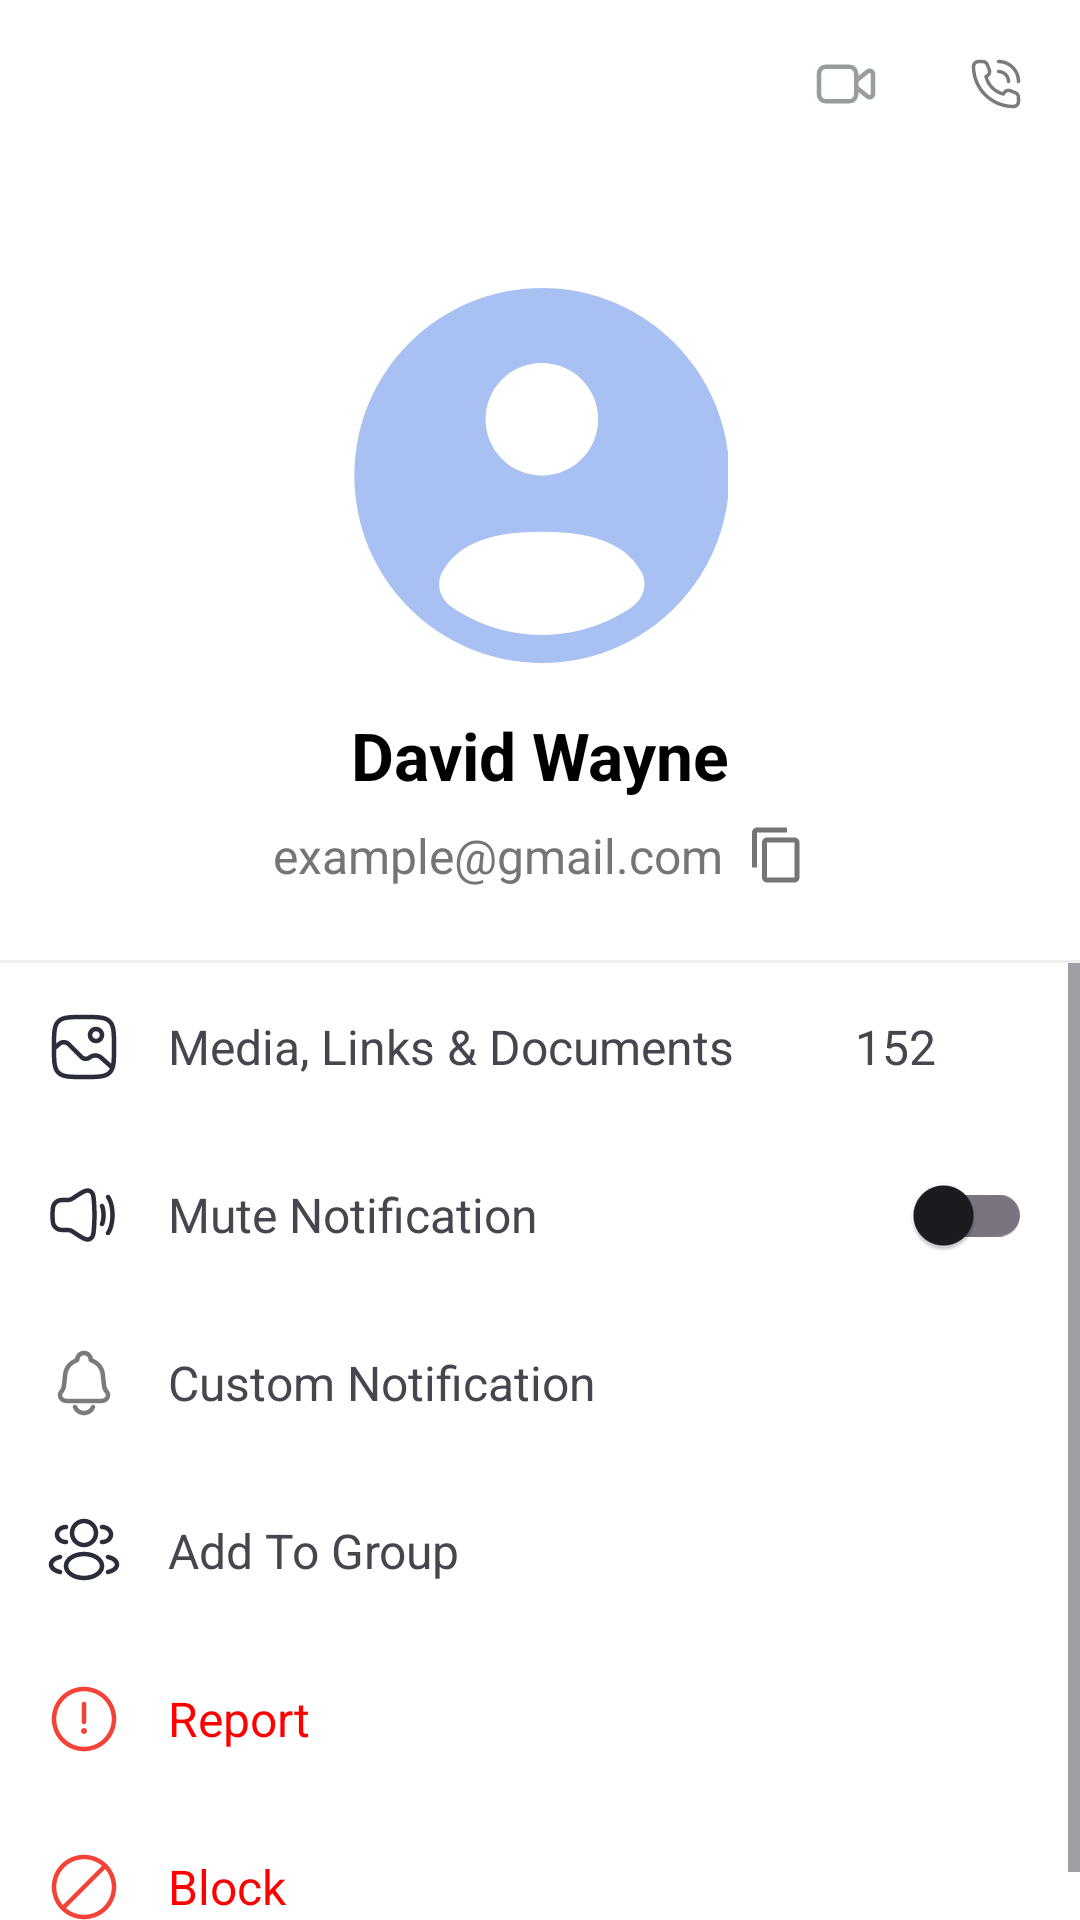

Named icons in this screenshot (1080px x 1920px) and their centers, (x=x, y=y):
call: (x=996, y=84)
danger circle: (x=84, y=1719)
forbidden circle: (x=84, y=1887)
gallery: (x=84, y=1047)
users group two rounded: (x=84, y=1549)
video: (x=846, y=84)
volume loud: (x=82, y=1215)
